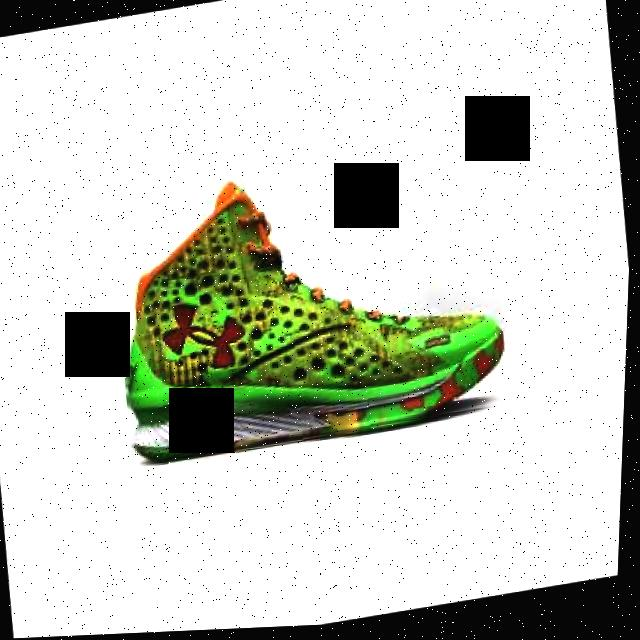shoe: (102, 139, 520, 473)
